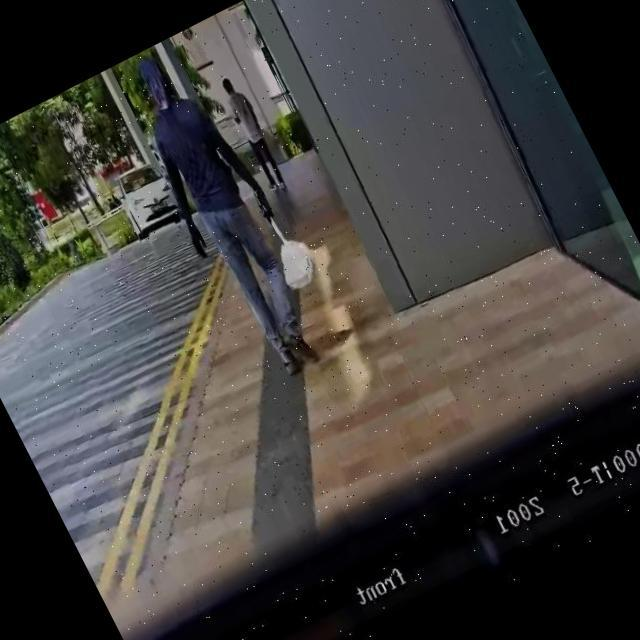person: (106, 34, 345, 388), (215, 72, 292, 196)
